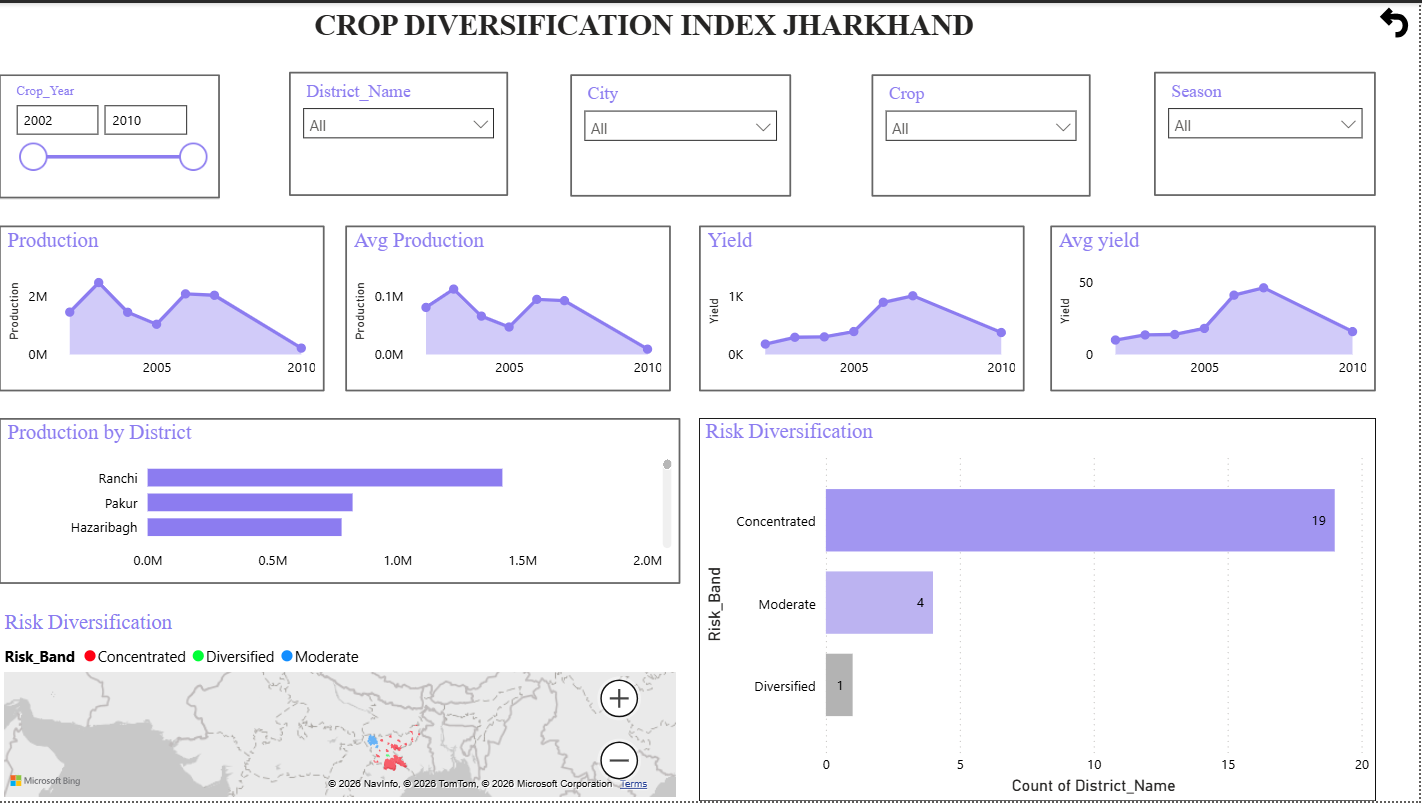

This screenshot's page, from the dashboard's own definition file:
{"tool":"powerbi","page":{"name":"Summary","canvas":[1280,720],"ordinal":0},"visuals":[{"type":"textbox","box":[279.9,0,604.6,47.3],"z":0},{"type":"slicer","fields":{"Values":["yearly_trend.Crop_Year"]},"box":[0,64.7,199,112],"z":1000},{"type":"slicer","fields":{"Values":["yearly_trend.District_Name"]},"box":[261.2,62.2,197.8,112],"z":2000},{"type":"slicer","fields":{"Values":["district_summary.City"]},"box":[515,64.7,199,110.7],"z":3000},{"type":"slicer","fields":{"Values":["Jharkhand.Crop"]},"box":[786.2,64.7,197.8,110.7],"z":4000},{"type":"slicer","fields":{"Values":["Jharkhand.Season"]},"box":[1041.2,62.2,200.3,112],"z":5000},{"type":"lineChart","title":"Production","fields":{"Y":["Sum(yearly_trend.Production)"],"Category":["yearly_trend.Crop_Year"]},"box":[0,200.3,293.6,149.3],"z":6000},{"type":"lineChart","title":"Yield","fields":{"Category":["yearly_trend.Crop_Year"],"Y":["Sum(yearly_trend.Yield)"]},"box":[630.7,200.3,293.6,149.3],"z":7000},{"type":"lineChart","title":"Avg yield","fields":{"Category":["yearly_trend.Crop_Year"],"Y":["Avg(yearly_trend.Yield)"]},"box":[947.9,200.3,293.6,149.3],"z":8000},{"type":"lineChart","title":"Avg Production","fields":{"Y":["Avg(yearly_trend.Production)"],"Category":["yearly_trend.Crop_Year"]},"box":[312.2,200.3,293.6,149.3],"z":9000},{"type":"barChart","title":"Production by District","fields":{"Y":["Sum(yearly_trend.Production)"],"Category":["yearly_trend.District_Name"]},"box":[0,374.4,614.5,149.3],"z":10000},{"type":"filledMap","title":" Risk Diversification","fields":{"Category":["Jharkhand.District_Name"],"Series":["risk_band.Risk_Band"]},"box":[0,547.3,614.5,172.9],"z":11000},{"type":"clusteredBarChart","title":"Risk Diversification","fields":{"Y":["CountNonNull(risk_band.District_Name)"],"Category":["risk_band.Risk_Band"]},"box":[630.7,374.4,610.8,345.8],"z":11001},{"type":"actionButton","box":[1241.5,0,38.6,34.8],"z":11002}]}

Visuals, with their boxes in screenshot pixels (x1, y1, x2, y2), scaled from the page's 1280x720 canvas onto the 1422x803 screenshot:
textbox: crop(311, 0, 983, 53)
slicer - yearly_trend.Crop_Year: crop(0, 72, 221, 197)
slicer - yearly_trend.District_Name: crop(290, 69, 510, 194)
slicer - district_summary.City: crop(572, 72, 793, 196)
slicer - Jharkhand.Crop: crop(873, 72, 1093, 196)
slicer - Jharkhand.Season: crop(1157, 69, 1379, 194)
"Production" lineChart: crop(0, 223, 326, 390)
"Yield" lineChart: crop(701, 223, 1027, 390)
"Avg yield" lineChart: crop(1053, 223, 1379, 390)
"Avg Production" lineChart: crop(347, 223, 673, 390)
"Production by District" barChart: crop(0, 418, 683, 584)
" Risk Diversification" filledMap: crop(0, 610, 683, 802)
"Risk Diversification" clusteredBarChart: crop(701, 418, 1379, 802)
actionButton: crop(1379, 0, 1421, 39)
